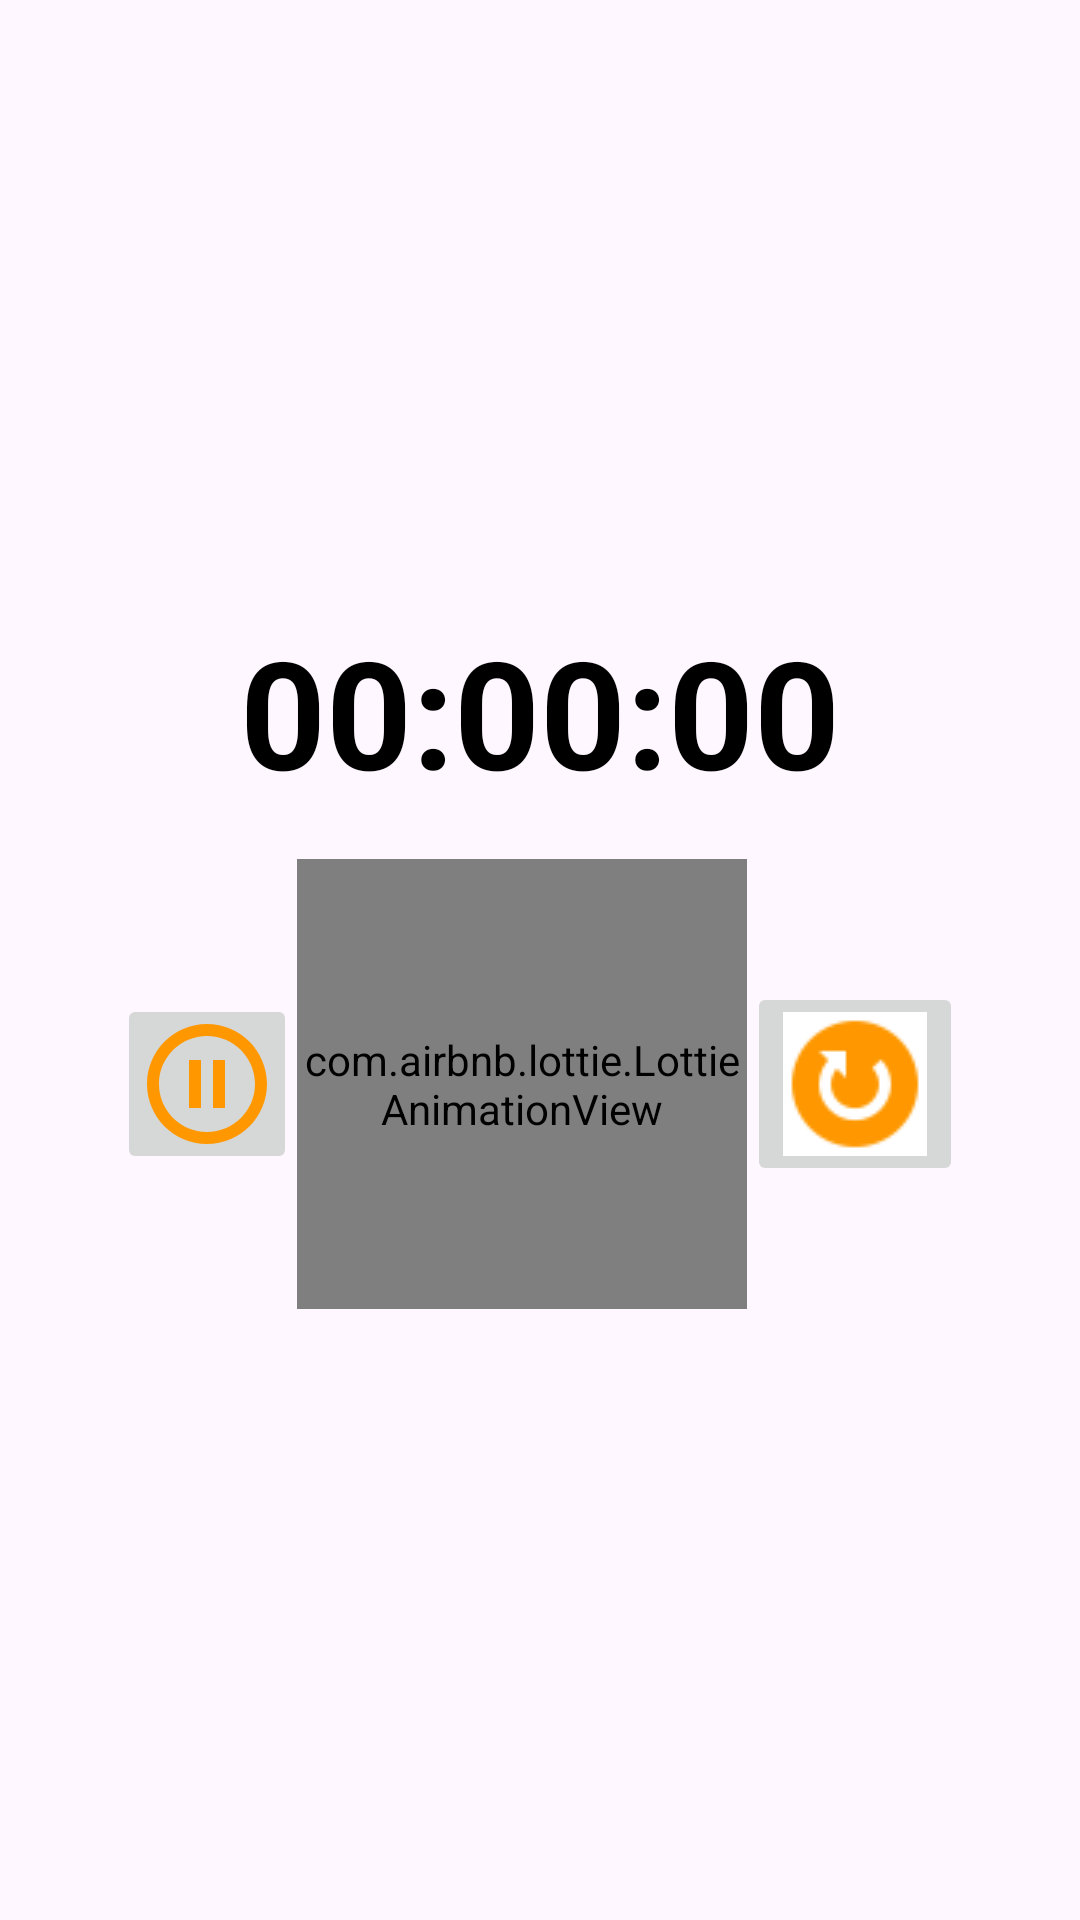

Named icons in this screenshot (1080w x 1920h) and their centers, (x,y):
pause: (207,1084)
reset: (855,1084)
